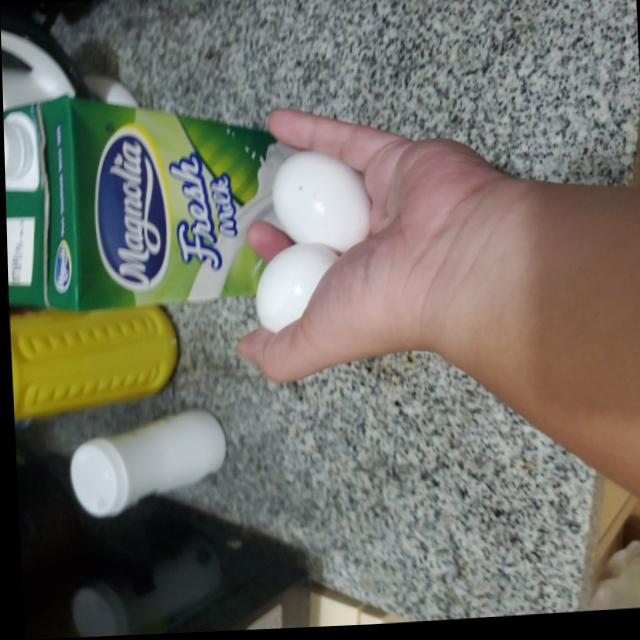egg: (270, 152, 374, 259), (251, 242, 339, 335)
milk: (2, 89, 279, 305)
